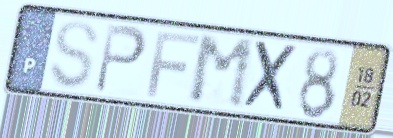8: (294, 45, 345, 121)
F: (144, 29, 202, 100)
M: (187, 33, 257, 112)
P: (92, 21, 150, 96)
S: (46, 18, 101, 92)
X: (239, 38, 301, 117)
